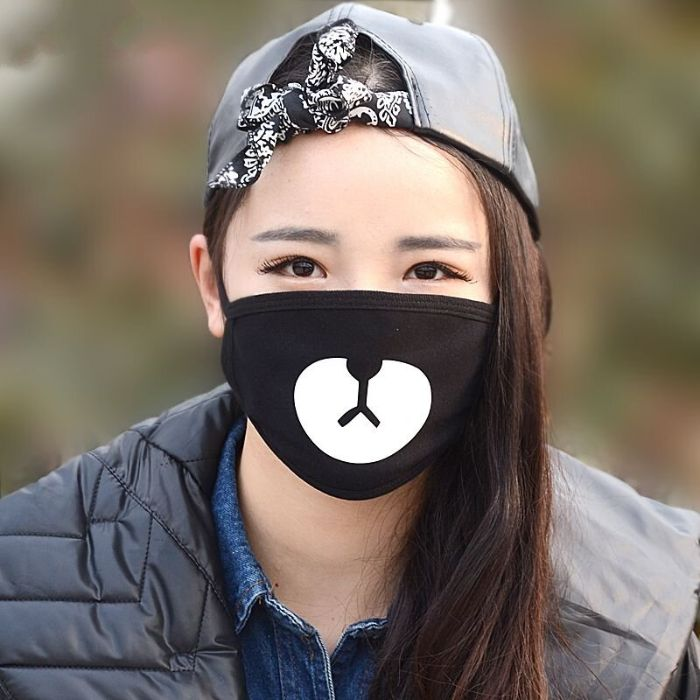with_mask: (240, 217, 488, 506)
